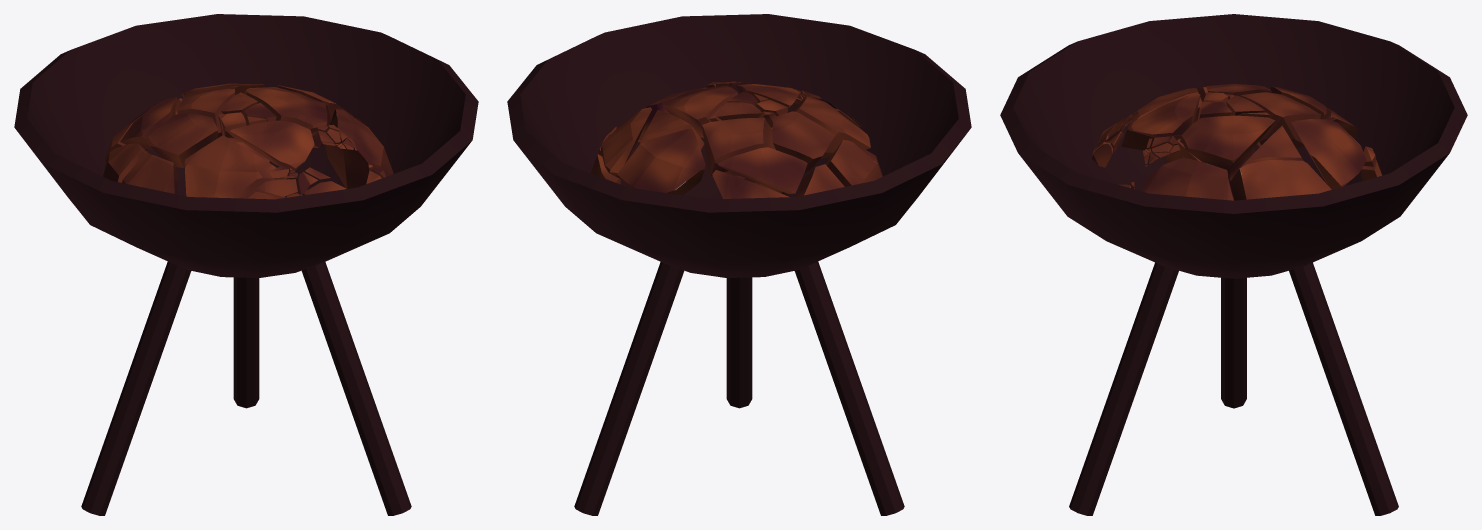
File: brazier.glb
3 renders of one model, left to right at view 1: azimuth 30°, elevation 25°; view 2: azimuth 150°, elevation 25°; view 3: azimuth 270°, elevation 25°, orthographic.
Visible parts, largest first — view 1: brazier-convcol, spent; view 2: brazier-convcol, spent; view 3: brazier-convcol, spent.
Part boxes in pixels (x1,y1,x2,y2): brazier-convcol: (14,14,478,515); spent: (103,83,393,199); brazier-convcol: (507,14,971,515); spent: (590,81,882,198); brazier-convcol: (1000,14,1467,515); spent: (1091,83,1381,200).
Size of the model in its own units: 0.8688 by 0.7669 by 0.8688.
Materials: 2 (1 with a texture image).
